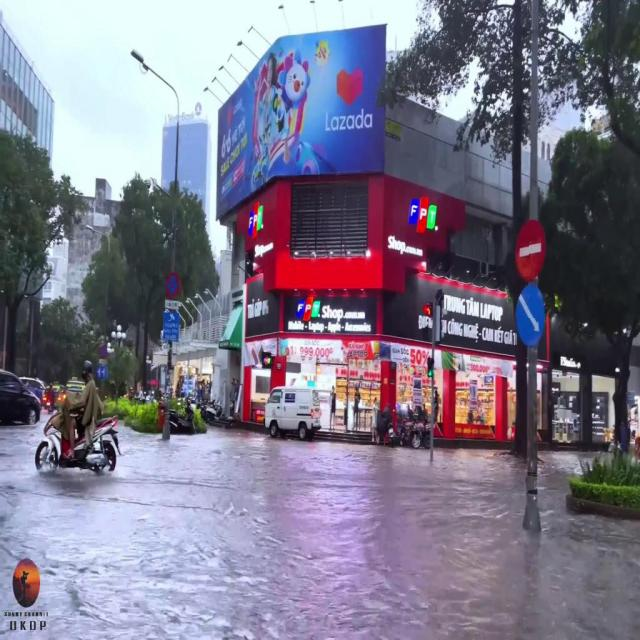cam_dung_xe_va_do_xe: (166, 273, 181, 299)
cam_xe_di_nguoc_chieu: (515, 221, 546, 281)
huong_phai_di_vuot_chuong_ngai_vat_phai: (515, 284, 544, 346)
khac: (163, 314, 179, 342), (165, 301, 179, 309)
